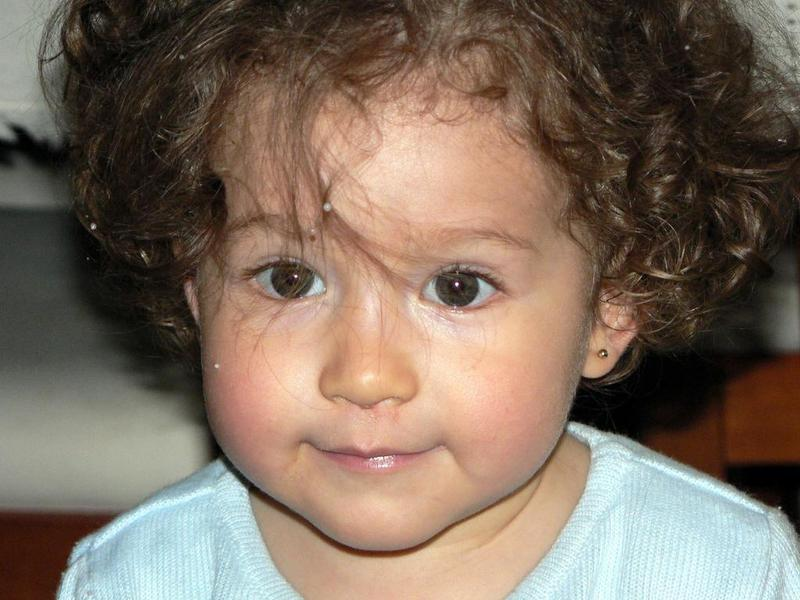person: (37, 1, 799, 600)
